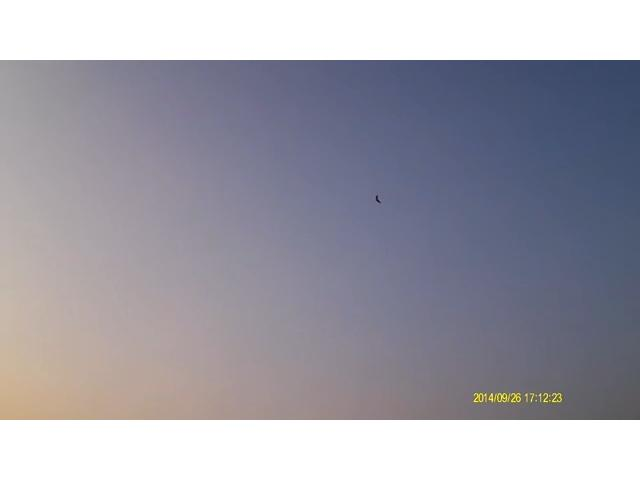Anti-Drone: (370, 190, 390, 214)
